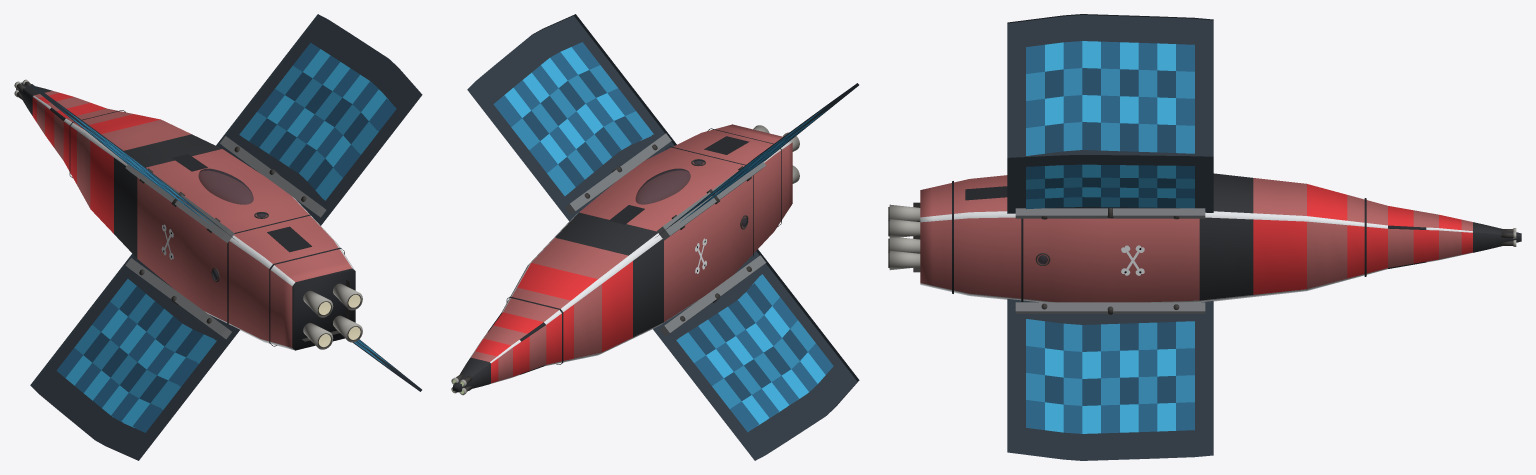
The model's file is Ship_Crosspanel_18.glb.
The picture shows the model from 3 angles, left to right: view 1: azimuth 30°, elevation 25°; view 2: azimuth 150°, elevation 25°; view 3: azimuth 270°, elevation 25°; orthographic projection.
Parts seen in each view (by area): view 1: Fuselage_SquareBody, SolarPanelWing_LowerLeftRidge_RectangularPhotovoltaicGrid, SolarPanelWing_TopRightRidge_RectangularPhotovoltaicGrid, Nose_SquareTaperedForwardSection, SolarPanelWing_TopLeftRidge_RectangularPhotovoltaicGrid, Canopy_DorsalLowSquareBubble, SolarPanelWing_LowerLeftRidge_RootHingeClamp, SolarPanelWing_TopRightRidge_RootHingeClamp, SolarPanelWing_TopLeftRidge_RootHingeClamp, HullAccessPanel_TopAft, EngineEmitter, SolarPanelWing_LowerRightRidge_RectangularPhotovoltaicGrid; view 2: Fuselage_SquareBody, SolarPanelWing_LowerLeftRidge_RectangularPhotovoltaicGrid, SolarPanelWing_TopRightRidge_RectangularPhotovoltaicGrid, Nose_SquareTaperedForwardSection, SolarPanelWing_TopLeftRidge_RectangularPhotovoltaicGrid, Canopy_DorsalLowSquareBubble, SolarPanelWing_LowerLeftRidge_RootHingeClamp, SolarPanelWing_TopRightRidge_RootHingeClamp, SolarPanelWing_TopLeftRidge_RootHingeClamp, HullAccessPanel_TopAft; view 3: Fuselage_SquareBody, SolarPanelWing_LowerRightRidge_RectangularPhotovoltaicGrid, SolarPanelWing_TopLeftRidge_RectangularPhotovoltaicGrid, SolarPanelWing_TopRightRidge_RectangularPhotovoltaicGrid, Nose_SquareTaperedForwardSection, SolarPanelWing_LowerRightRidge_RootHingeClamp, SolarPanelWing_TopRightRidge_RootHingeClamp.
Part boxes in pixels (bbox=[...]): Fuselage_SquareBody: bbox=[63, 108, 355, 350]; SolarPanelWing_LowerLeftRidge_RectangularPhotovoltaicGrid: bbox=[30, 253, 239, 460]; SolarPanelWing_TopRightRidge_RectangularPhotovoltaicGrid: bbox=[216, 14, 422, 225]; Nose_SquareTaperedForwardSection: bbox=[16, 82, 106, 160]; SolarPanelWing_TopLeftRidge_RectangularPhotovoltaicGrid: bbox=[30, 84, 237, 241]; Canopy_DorsalLowSquareBubble: bbox=[198, 168, 253, 204]; SolarPanelWing_LowerLeftRidge_RootHingeClamp: bbox=[125, 258, 231, 339]; SolarPanelWing_TopRightRidge_RootHingeClamp: bbox=[220, 136, 326, 217]; SolarPanelWing_TopLeftRidge_RootHingeClamp: bbox=[125, 164, 234, 242]; HullAccessPanel_TopAft: bbox=[267, 226, 311, 252]; EngineEmitter: bbox=[318, 294, 360, 347]; SolarPanelWing_LowerRightRidge_RectangularPhotovoltaicGrid: bbox=[353, 339, 421, 391]; Fuselage_SquareBody: bbox=[501, 124, 792, 366]; SolarPanelWing_LowerLeftRidge_RectangularPhotovoltaicGrid: bbox=[653, 249, 859, 460]; SolarPanelWing_TopRightRidge_RectangularPhotovoltaicGrid: bbox=[467, 14, 676, 221]; Nose_SquareTaperedForwardSection: bbox=[453, 312, 546, 392]; SolarPanelWing_TopLeftRidge_RectangularPhotovoltaicGrid: bbox=[655, 83, 858, 237]; Canopy_DorsalLowSquareBubble: bbox=[635, 168, 690, 204]; SolarPanelWing_LowerLeftRidge_RootHingeClamp: bbox=[660, 255, 766, 336]; SolarPanelWing_TopRightRidge_RootHingeClamp: bbox=[565, 133, 671, 214]; SolarPanelWing_TopLeftRidge_RootHingeClamp: bbox=[657, 161, 765, 240]; HullAccessPanel_TopAft: bbox=[704, 136, 749, 154]; Fuselage_SquareBody: bbox=[920, 173, 1387, 302]; SolarPanelWing_LowerRightRidge_RectangularPhotovoltaicGrid: bbox=[1007, 299, 1213, 460]; SolarPanelWing_TopLeftRidge_RectangularPhotovoltaicGrid: bbox=[1007, 14, 1213, 157]; SolarPanelWing_TopRightRidge_RectangularPhotovoltaicGrid: bbox=[1007, 155, 1213, 213]; Nose_SquareTaperedForwardSection: bbox=[1388, 206, 1521, 268]; SolarPanelWing_LowerRightRidge_RootHingeClamp: bbox=[1015, 302, 1205, 313]; SolarPanelWing_TopRightRidge_RootHingeClamp: bbox=[1015, 208, 1205, 218].
Bounding box in the file's own units: 4.64 × 4.64 × 8.7.
